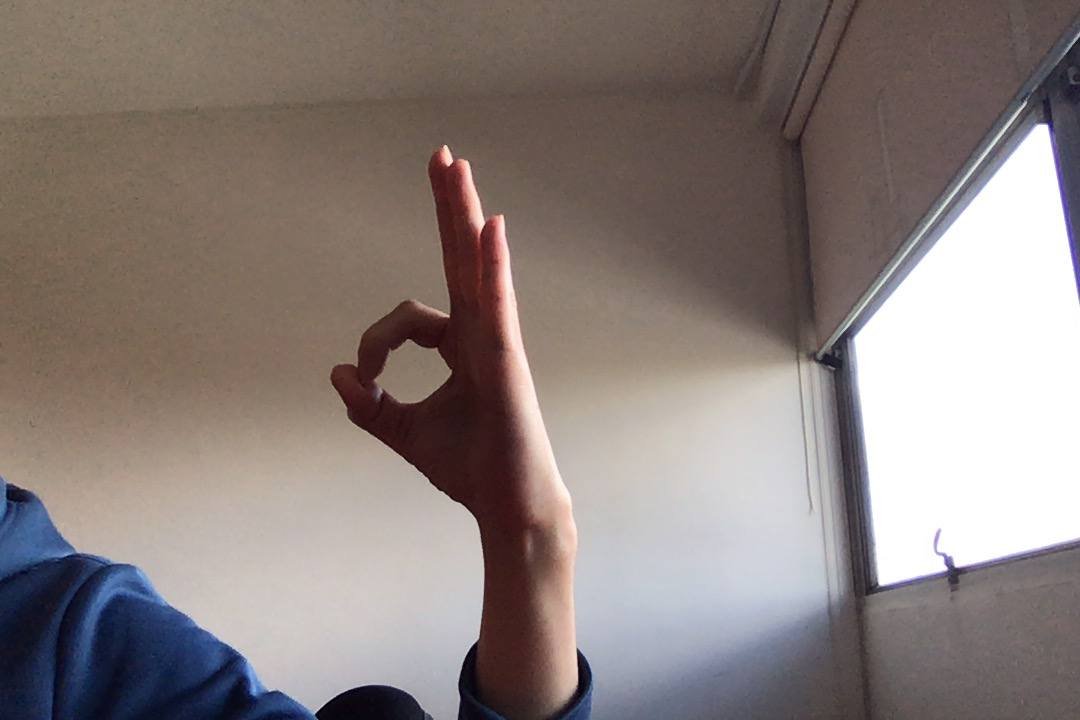oksign: (323, 139, 576, 526)
